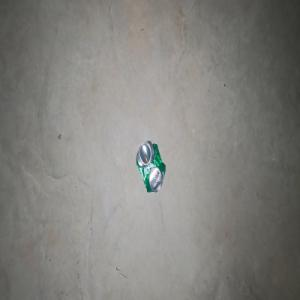SodaCan: (135, 139, 165, 192)
